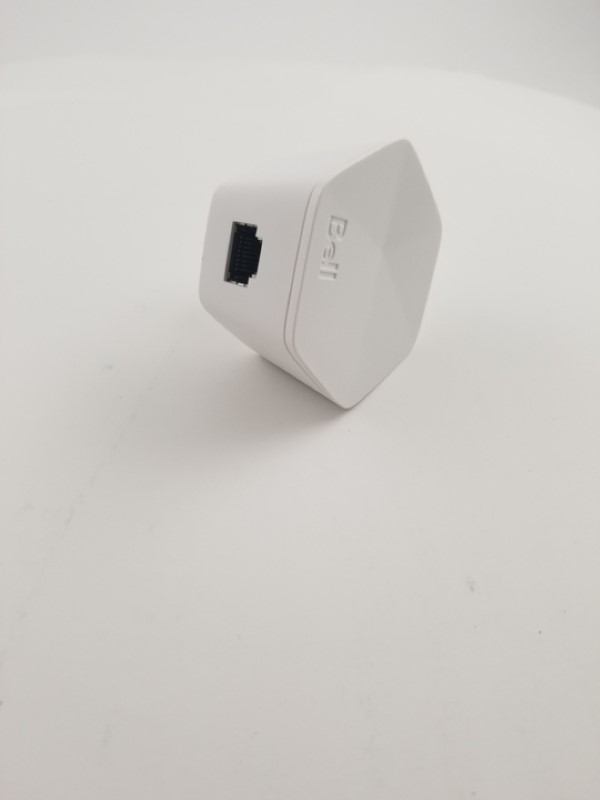pod: (195, 124, 453, 414)
